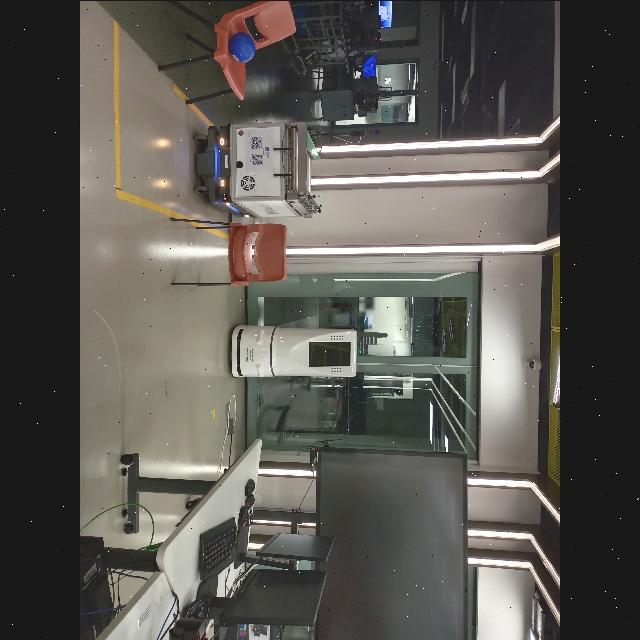B: (228, 29, 258, 62)
